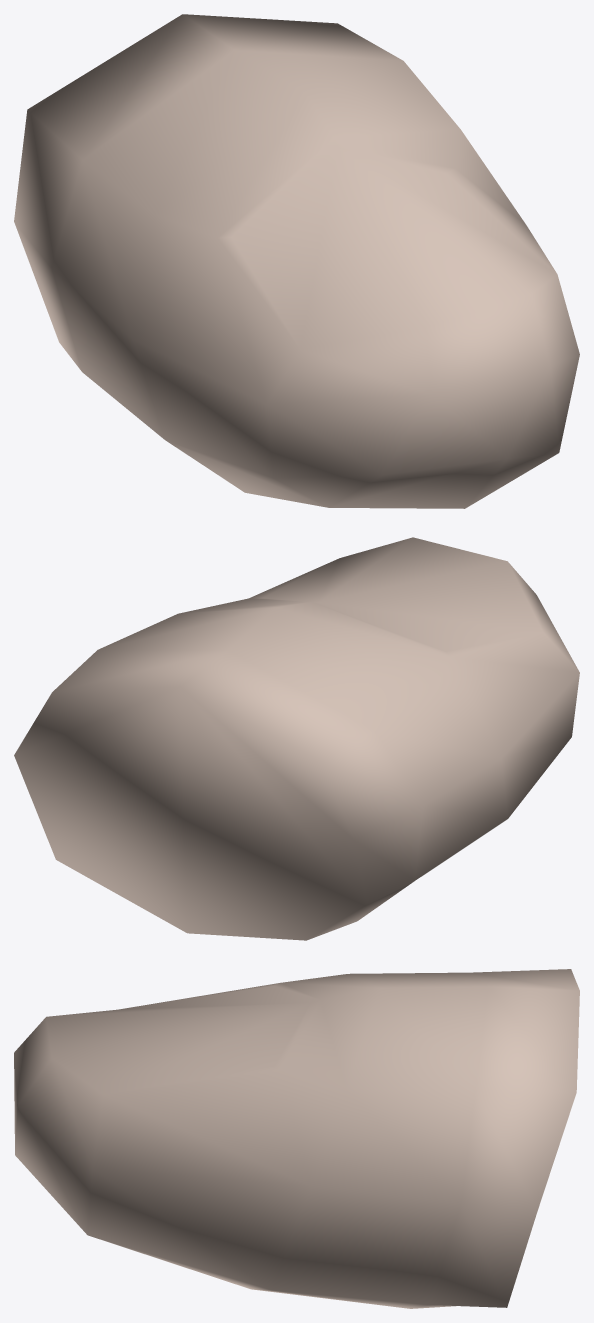
Rendered from RIndex3rdPhalange.dae.
3 views of the same model, one above another, from view 1: azimuth 30°, elevation 25°; view 2: azimuth 150°, elevation 25°; view 3: azimuth 270°, elevation 25° (orthographic). The views are drawn at different scales.
Visible parts, largest first — view 1: ShapeIndexedFaceSet; view 2: ShapeIndexedFaceSet; view 3: ShapeIndexedFaceSet.
Part boxes in pixels (<box>): ShapeIndexedFaceSet: <box>14,14,579,508</box>; ShapeIndexedFaceSet: <box>14,537,579,940</box>; ShapeIndexedFaceSet: <box>14,969,579,1308</box>.
Bounding box in the file's own units: 0.0178 × 0.0236 × 0.0141.
